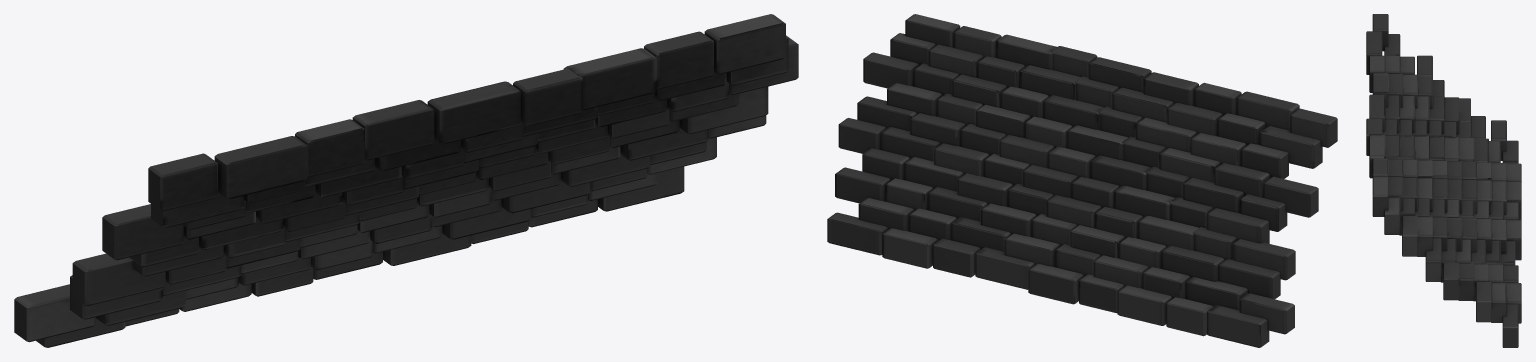
The model's file is stairs.glb.
3 renders of one model, left to right at view 1: azimuth 30°, elevation 25°; view 2: azimuth 150°, elevation 25°; view 3: azimuth 270°, elevation 25°, orthographic. The views are drawn at different scales.
Visible parts, largest first — view 1: roof/stairs; view 2: roof/stairs; view 3: roof/stairs.
Part boxes in pixels (left/top/right/bottom): roof/stairs: left=14, top=14, right=798, bottom=347; roof/stairs: left=827, top=14, right=1337, bottom=347; roof/stairs: left=1366, top=14, right=1521, bottom=347.
Bounding box in the file's own units: 6.07 × 2.08 × 1.94.
2 materials, 2 textured.
